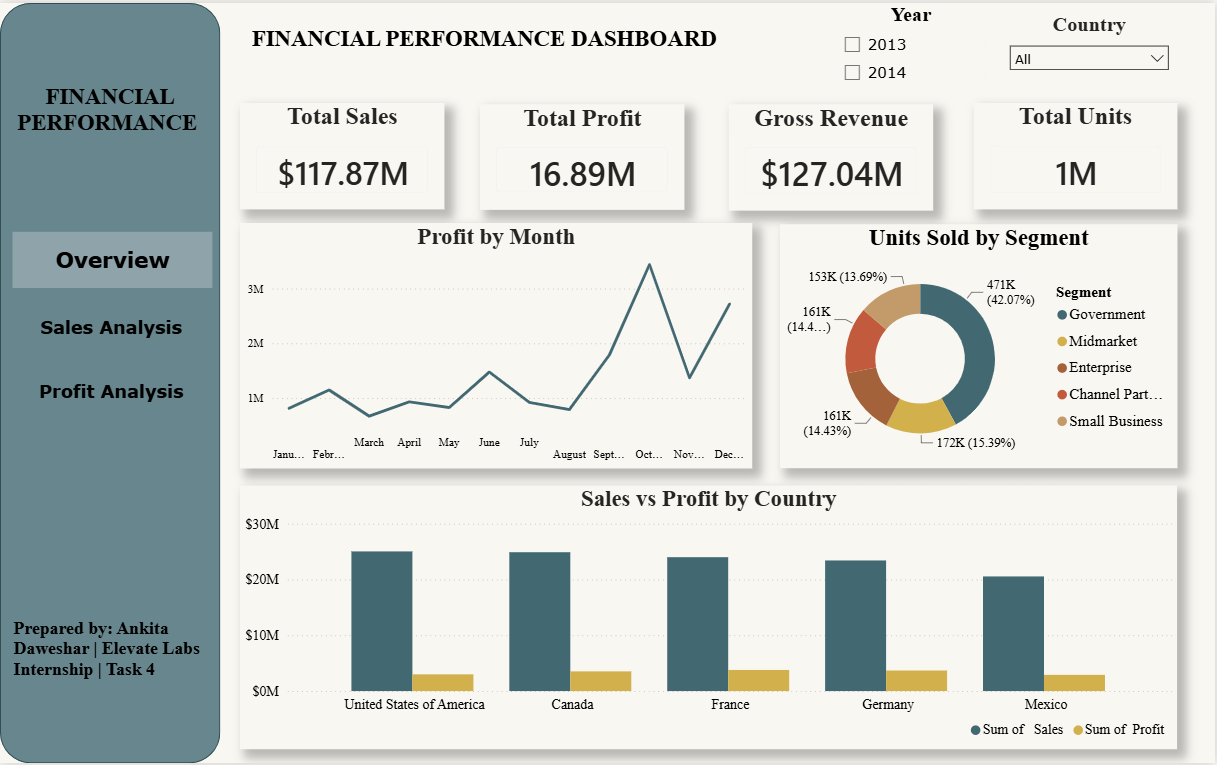

Layout of this report page (visuals, bound fields, positions):
{"tool":"powerbi","page":{"name":"Overview","canvas":[1280,800],"ordinal":0},"visuals":[{"type":"shape","box":[0,0,231.9,800.3],"z":0},{"type":"cardVisual","title":"Total Sales","fields":{"Data":["Sum(Financials.  Sales )"]},"box":[252,105.9,215.5,112.2],"z":1000},{"type":"cardVisual","title":"Total Profit","fields":{"Data":["Sum(Financials. Profit )"]},"box":[505.4,107.1,215.5,110.9],"z":2000},{"type":"cardVisual","title":"Total Units","fields":{"Data":["Sum(Financials. Units Sold )"]},"box":[1024.6,105.9,214.2,112.2],"z":3000},{"type":"cardVisual","title":"Gross Revenue","fields":{"Data":["Sum(Financials. Gross Sales )"]},"box":[767.5,107.1,215.5,112.2],"z":4000},{"type":"slicer","title":"Year","fields":{"Values":["Financials.Year"]},"box":[875.9,0,165.1,97],"z":6000},{"type":"slicer","title":"Country","fields":{"Values":["Financials.Country"]},"box":[1052.3,10.1,187.8,78.1],"z":7000},{"type":"textbox","box":[0,80.7,231.9,88.2],"z":8000},{"type":"textbox","box":[8.8,641.5,216.8,92],"z":9000},{"type":"actionButton","box":[11.3,311.3,210.5,59.2],"z":10000},{"type":"actionButton","box":[12.6,240.7,210.5,59.2],"z":11000},{"type":"actionButton","box":[11.3,380.6,210.5,58],"z":12000},{"type":"textbox","box":[252,18.9,514.2,61.8],"z":13000},{"type":"lineChart","title":"Profit  by  Month","fields":{"Category":["Financials. Month Name "],"Y":["Sum(Financials. Profit )"]},"box":[252,231.9,539.4,258.4],"z":14000},{"type":"donutChart","title":"Units Sold  by Segment","fields":{"Category":["Financials.Segment"],"Y":["Sum(Financials. Units Sold )"]},"box":[821.7,233.1,418.4,257.1],"z":15000},{"type":"clusteredColumnChart","title":"Sales vs Profit by Country","fields":{"Category":["Financials.Country"],"Y":["Sum(Financials.  Sales )","Sum(Financials. Profit )"]},"box":[252,507.9,986.8,277.3],"z":15001}]}

Visuals, with their boxes in screenshot pixels (x1, y1, x2, y2), scaled from the page's 1280x800 canvas onto the 1217x765 screenshot:
shape: 0 0 220 764
"Total Sales" cardVisual: 240 101 444 209
"Total Profit" cardVisual: 481 102 685 208
"Total Units" cardVisual: 974 101 1178 209
"Gross Revenue" cardVisual: 730 102 935 210
"Year" slicer: 833 0 990 93
"Country" slicer: 1001 10 1179 84
textbox: 0 77 220 162
textbox: 8 613 214 701
actionButton: 11 298 211 354
actionButton: 12 230 212 287
actionButton: 11 364 211 419
textbox: 240 18 728 77
"Profit  by  Month" lineChart: 240 222 752 469
"Units Sold  by Segment" donutChart: 781 223 1179 469
"Sales vs Profit by Country" clusteredColumnChart: 240 486 1178 751
